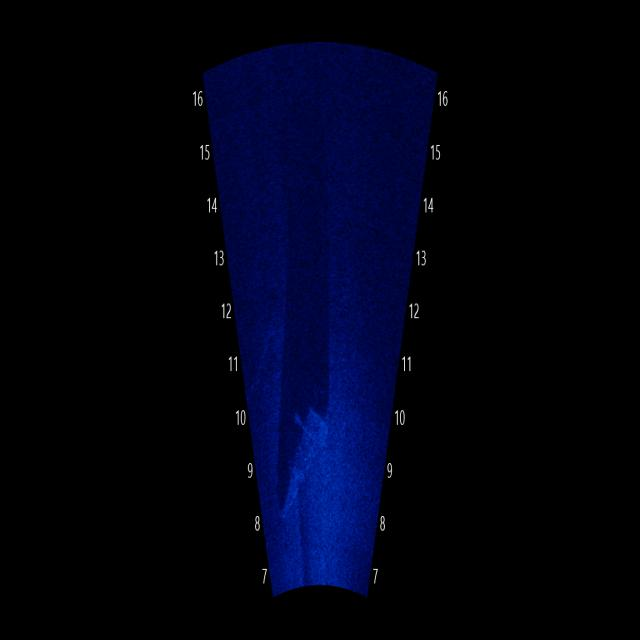triangle: (273, 383, 328, 524)
